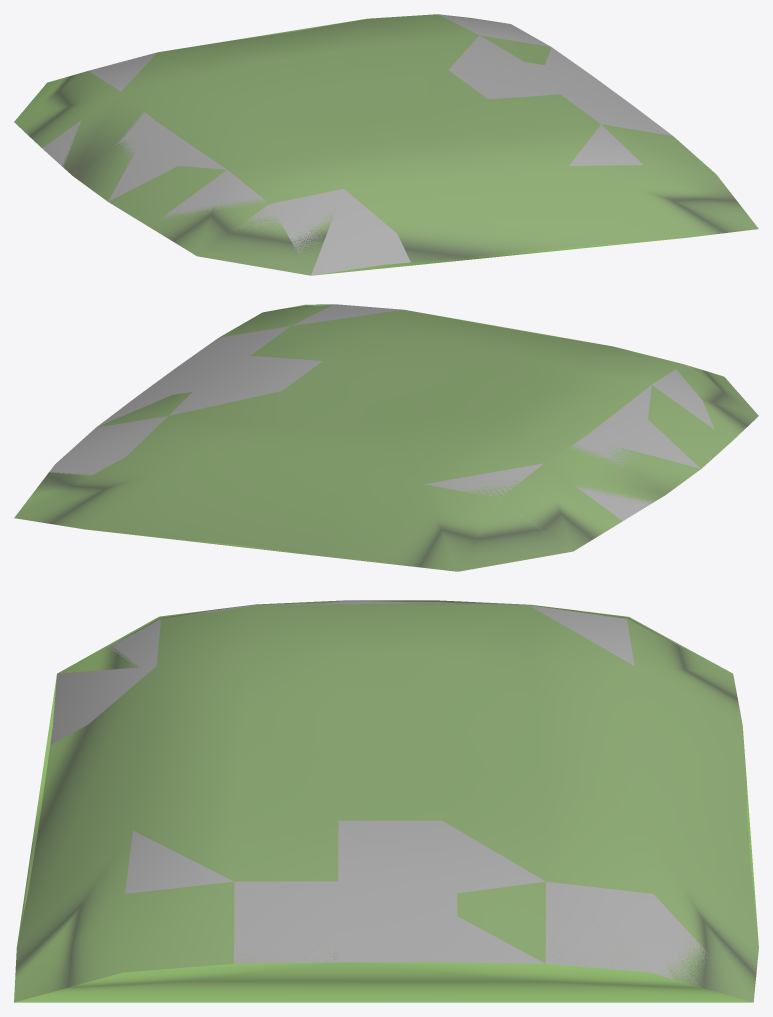
File: M_md_Stall1_1m_ice_01.fbx
3 renders of one model, top to bottom at view 1: azimuth 30°, elevation 25°; view 2: azimuth 150°, elevation 25°; view 3: azimuth 270°, elevation 25°, orthographic. The views are drawn at different scales.
Parts seen in each view (by area): view 1: M_md_Stall1_1m_ice_01, M_md_Stall1_1m_ice_01_col_01; view 2: M_md_Stall1_1m_ice_01, M_md_Stall1_1m_ice_01_col_01; view 3: M_md_Stall1_1m_ice_01, M_md_Stall1_1m_ice_01_col_01.
Boxes of the visible parts, x1=… form: M_md_Stall1_1m_ice_01: x1=14, y1=14, x2=758, y2=275; M_md_Stall1_1m_ice_01_col_01: x1=14, y1=14, x2=758, y2=275; M_md_Stall1_1m_ice_01: x1=14, y1=304, x2=758, y2=571; M_md_Stall1_1m_ice_01_col_01: x1=14, y1=304, x2=758, y2=571; M_md_Stall1_1m_ice_01: x1=14, y1=600, x2=758, y2=1002; M_md_Stall1_1m_ice_01_col_01: x1=14, y1=600, x2=758, y2=1002.
Size of the model in its own units: 97.82 by 17.33 by 94.47.
